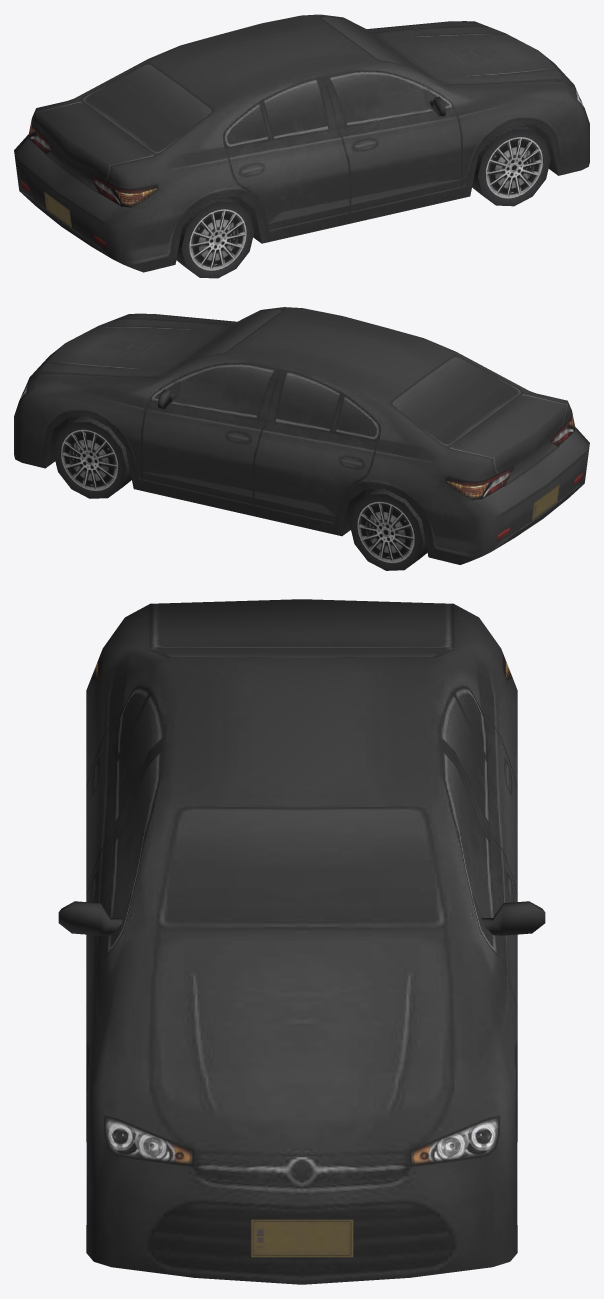
File: sf_luxury_03.glb
3 renders of one model, top to bottom at view 1: azimuth 30°, elevation 25°; view 2: azimuth 150°, elevation 25°; view 3: azimuth 270°, elevation 25°, orthographic. The views are drawn at different scales.
Parts seen in each view (by area): view 1: Traffic_Luxury_03_Body, Traffic_Luxury_03_Wheel_Front_R_Traffic_Vehicle_Wheels_01_6_, Traffic_Luxury_03_Wheel_Back_R_Traffic_Vehicle_Wheels_01_6_0, Traffic_Luxury_03_Light_Break, Traffic_Luxury_03_Light_Turn_R; view 2: Traffic_Luxury_03_Body, Traffic_Luxury_03_Wheel_Front_L_Traffic_Vehicle_Wheels_01_6_, Traffic_Luxury_03_Wheel_Back_L_Traffic_Vehicle_Wheels_01_6_0, Traffic_Luxury_03_Light_Break, Traffic_Luxury_03_Light_Turn_L; view 3: Traffic_Luxury_03_Body, Traffic_Luxury_03_Light.
Boxes of the visible parts, <box> form: Traffic_Luxury_03_Body: <box>14,14,589,272</box>; Traffic_Luxury_03_Wheel_Front_R_Traffic_Vehicle_Wheels_01_6_: <box>472,124,550,206</box>; Traffic_Luxury_03_Wheel_Back_R_Traffic_Vehicle_Wheels_01_6_0: <box>176,196,254,278</box>; Traffic_Luxury_03_Light_Break: <box>29,119,158,207</box>; Traffic_Luxury_03_Light_Turn_R: <box>114,85,575,207</box>; Traffic_Luxury_03_Body: <box>14,307,589,564</box>; Traffic_Luxury_03_Wheel_Front_L_Traffic_Vehicle_Wheels_01_6_: <box>53,416,131,498</box>; Traffic_Luxury_03_Wheel_Back_L_Traffic_Vehicle_Wheels_01_6_0: <box>349,489,427,570</box>; Traffic_Luxury_03_Light_Break: <box>444,411,574,499</box>; Traffic_Luxury_03_Light_Turn_L: <box>27,378,489,499</box>; Traffic_Luxury_03_Body: <box>58,599,545,1284</box>; Traffic_Luxury_03_Light: <box>103,1115,500,1164</box>.
Size of the model in its own units: 4.5 by 1.38 by 1.88.
Materials: 3 (3 with a texture image).
